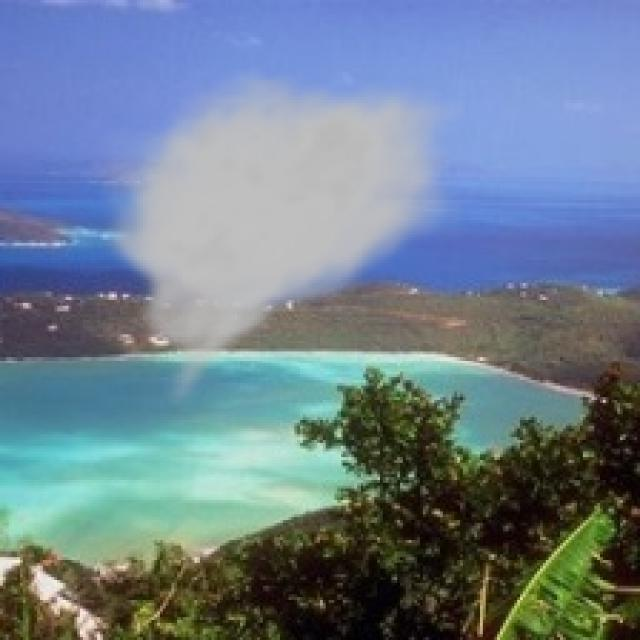smoke: (94, 69, 469, 414)
